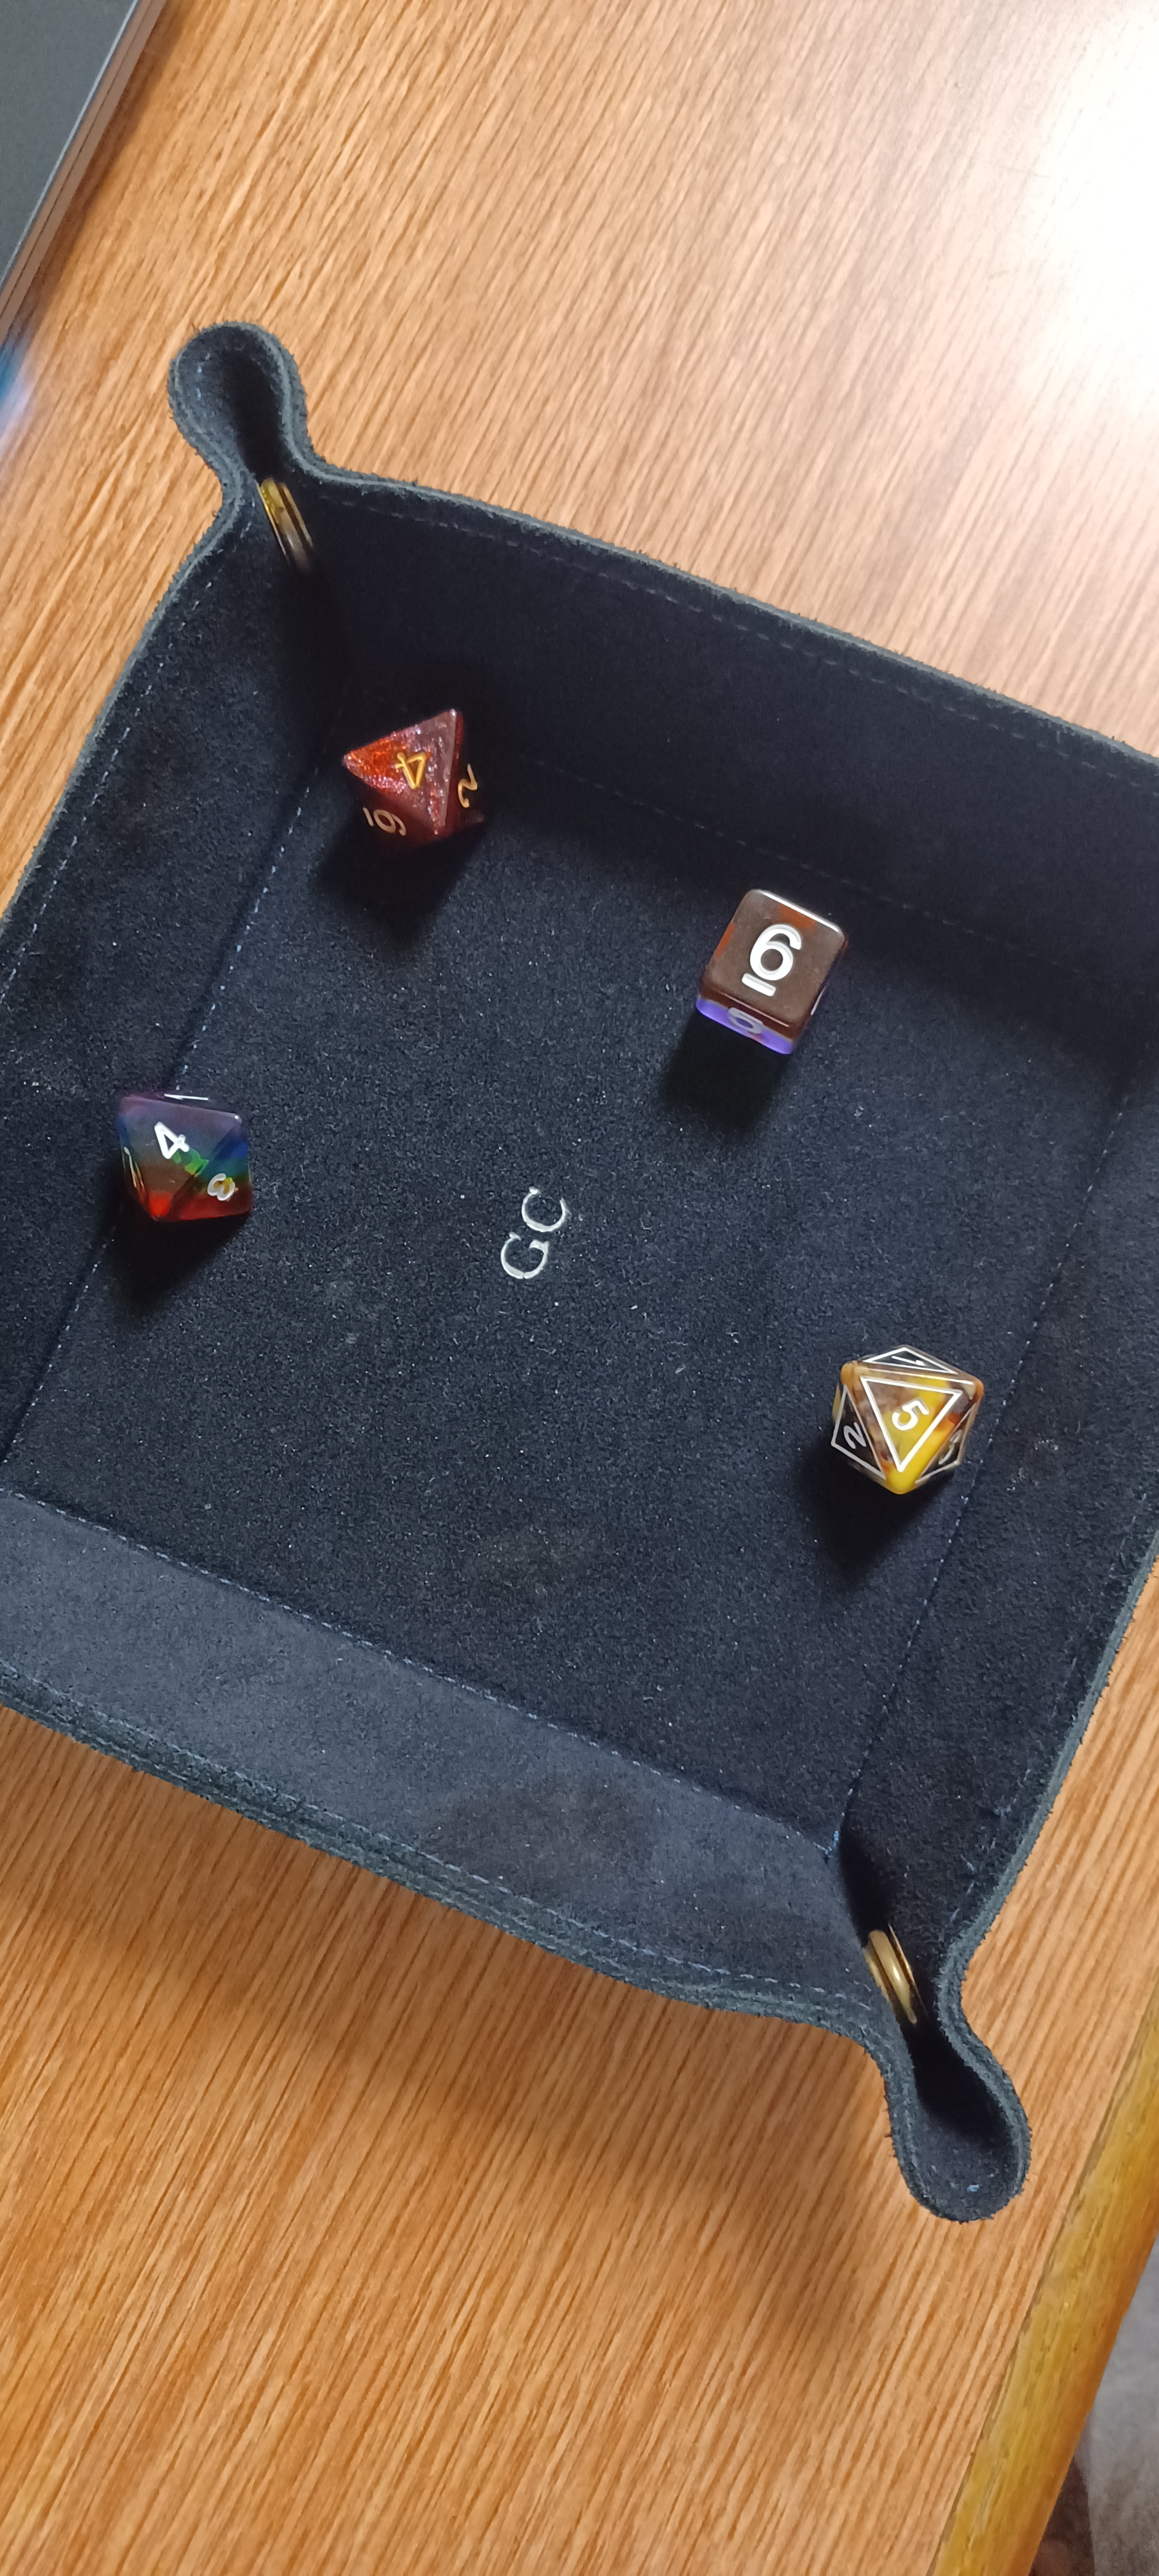five: (780, 1324, 1031, 1526)
four: (289, 646, 534, 907), (71, 1050, 307, 1260)
six: (650, 851, 883, 1083)
